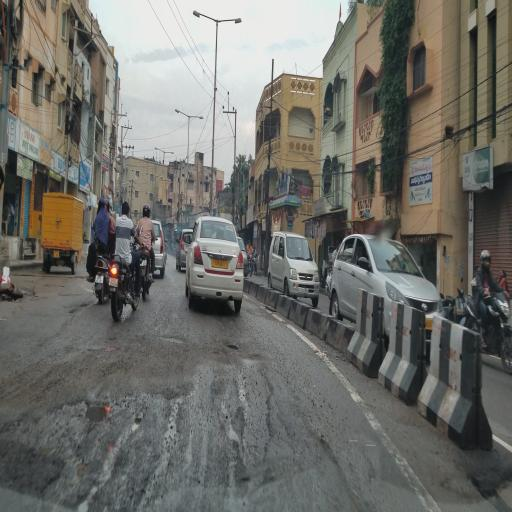street_light_0: (190, 2, 218, 32), (217, 7, 245, 30), (170, 98, 190, 124), (187, 104, 205, 125), (152, 138, 166, 160), (162, 143, 177, 161)
